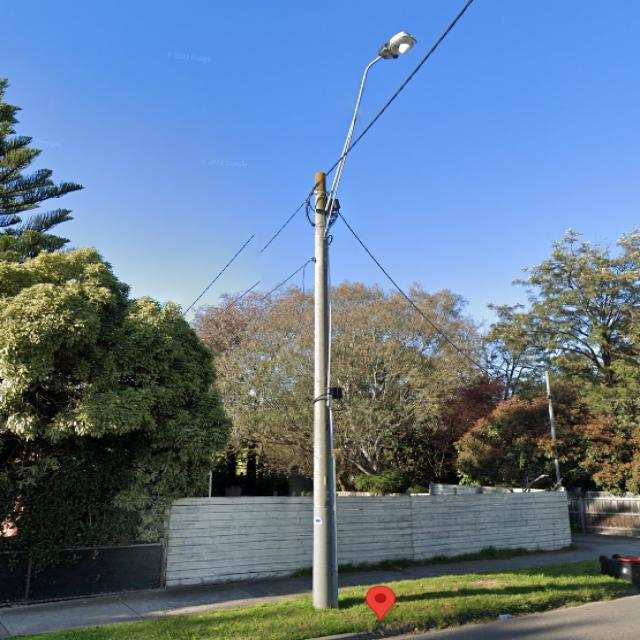concrete-pole: (312, 170, 340, 610)
streetlight: (324, 29, 419, 231)
top mount suitable pole: (312, 29, 421, 612)
